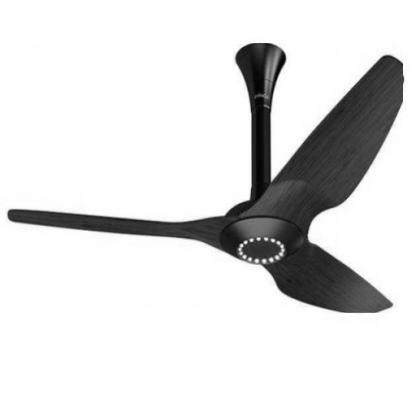ceiling-fan: (6, 43, 404, 314)
